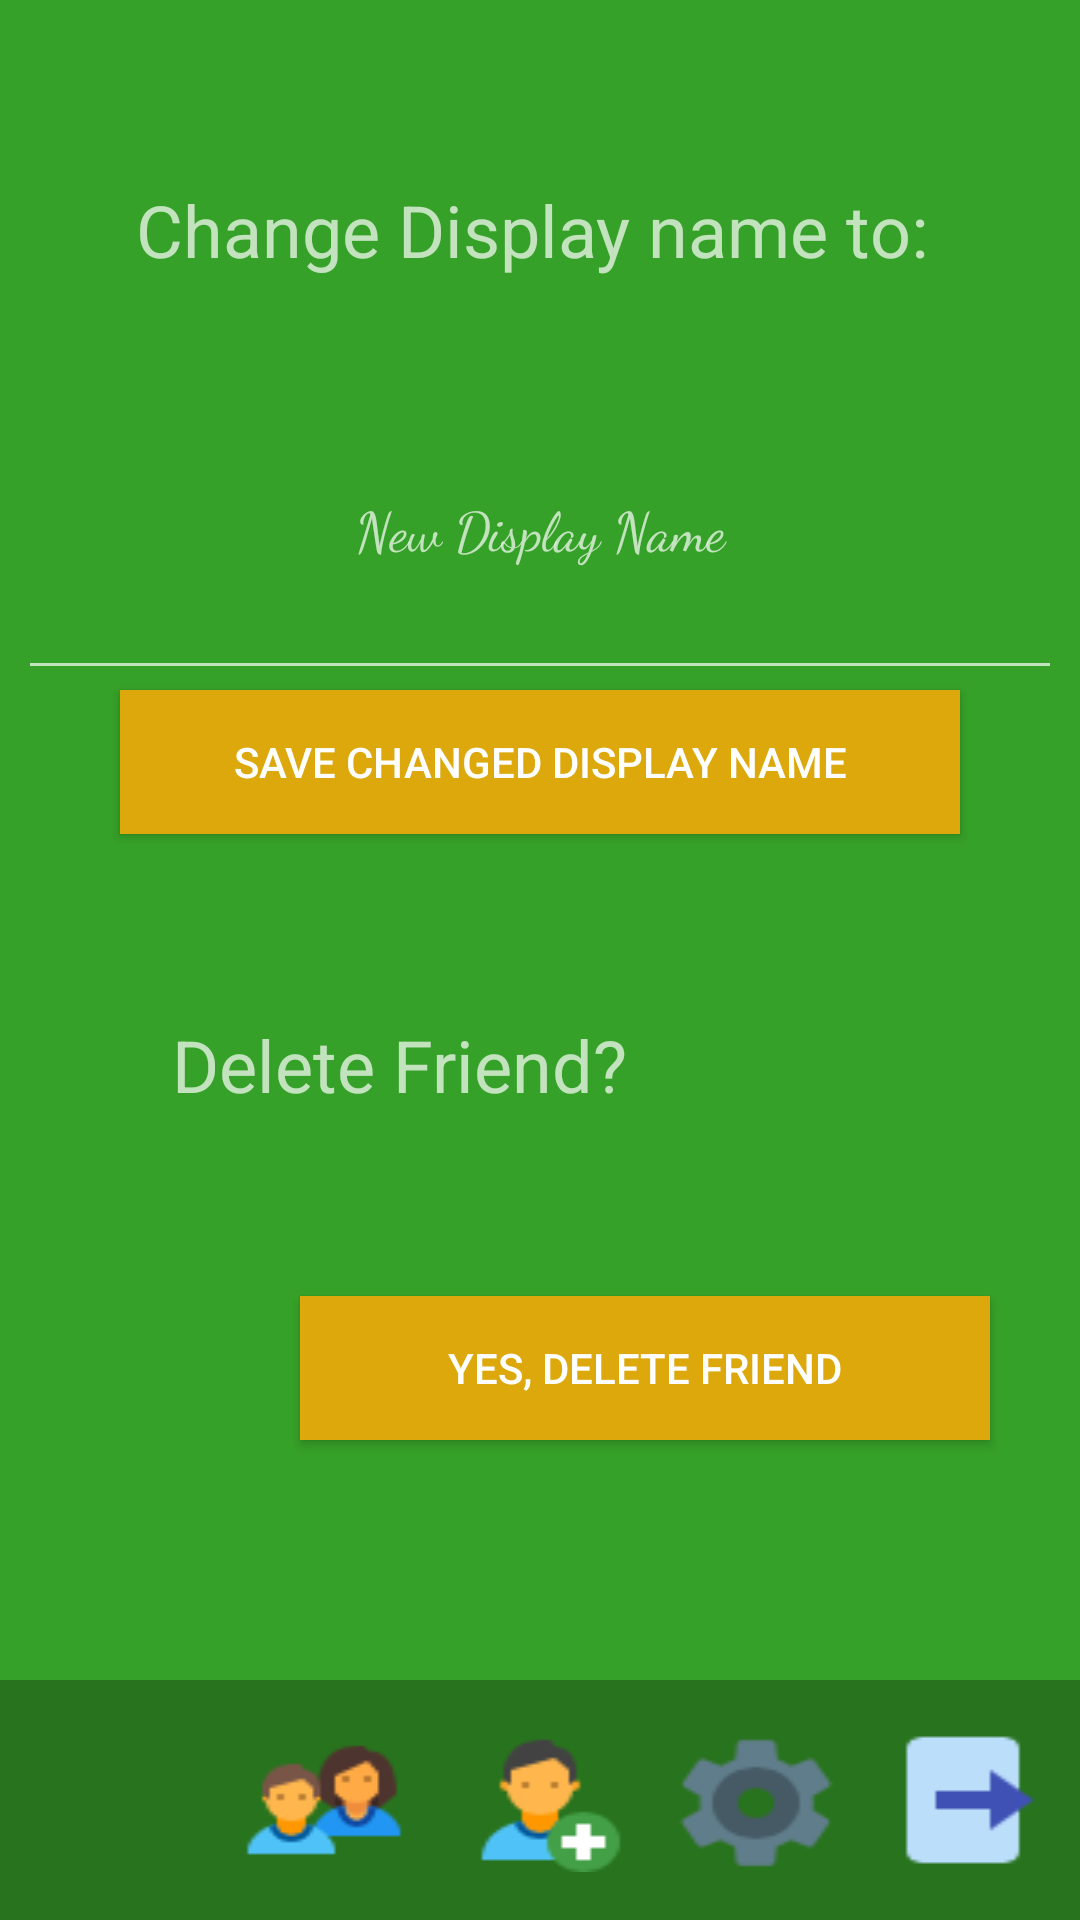

Locate icon controls on the screen. Image size 1080*1920, boxes as [x1, y1, x2, y2].
add friend: [481, 1740, 620, 1872]
friends group: [246, 1746, 402, 1855]
settings: [681, 1739, 832, 1867]
